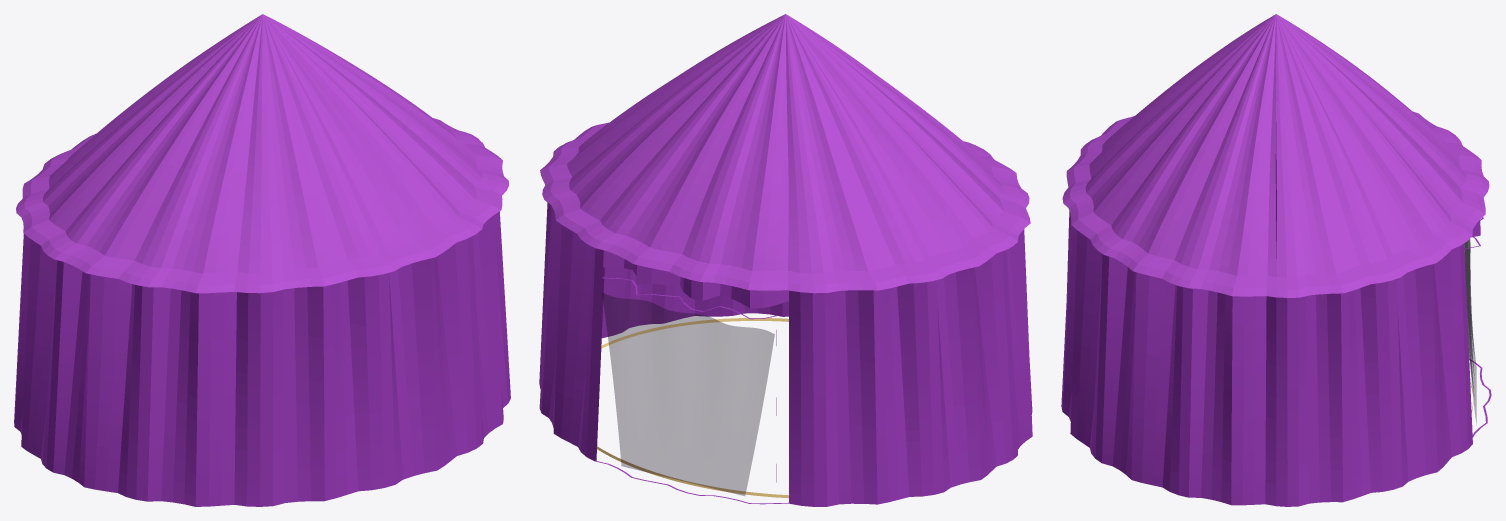
Rendered from tarot_tent.glb.
3 views of the same model, side by side, from view 1: azimuth 30°, elevation 25°; view 2: azimuth 150°, elevation 25°; view 3: azimuth 270°, elevation 25° (orthographic). The views are drawn at different scales.
Parts seen in each view (by area): view 1: tarot_tent; view 2: tarot_tent; view 3: tarot_tent.
Boxes of the visible parts, left/top/right/bottom form: tarot_tent: left=14, top=14, right=510, bottom=506; tarot_tent: left=539, top=14, right=1032, bottom=506; tarot_tent: left=1061, top=14, right=1491, bottom=506.
Size of the model in its own units: 7.63 by 6.5 by 6.55.
